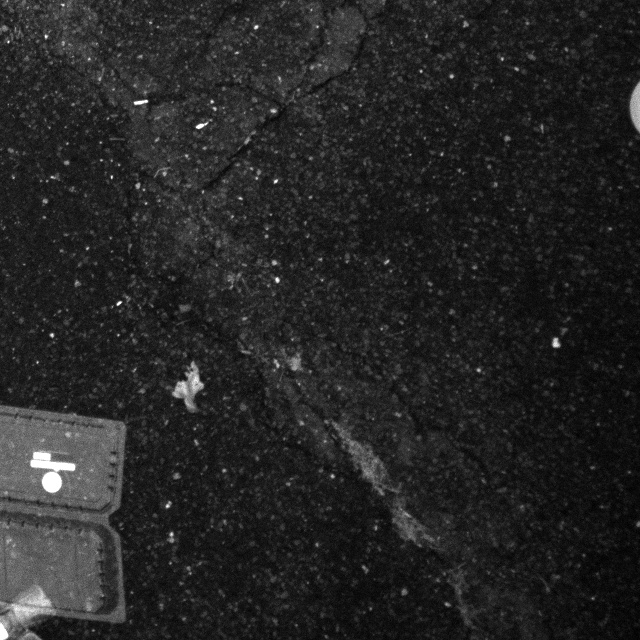bottle: (0, 589, 64, 640)
container: (0, 396, 133, 639)
